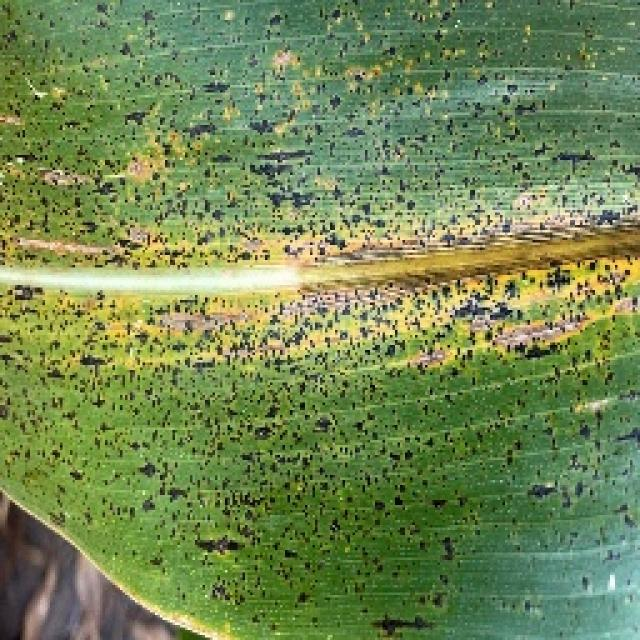Tar_Spot: (2, 140, 640, 442)
